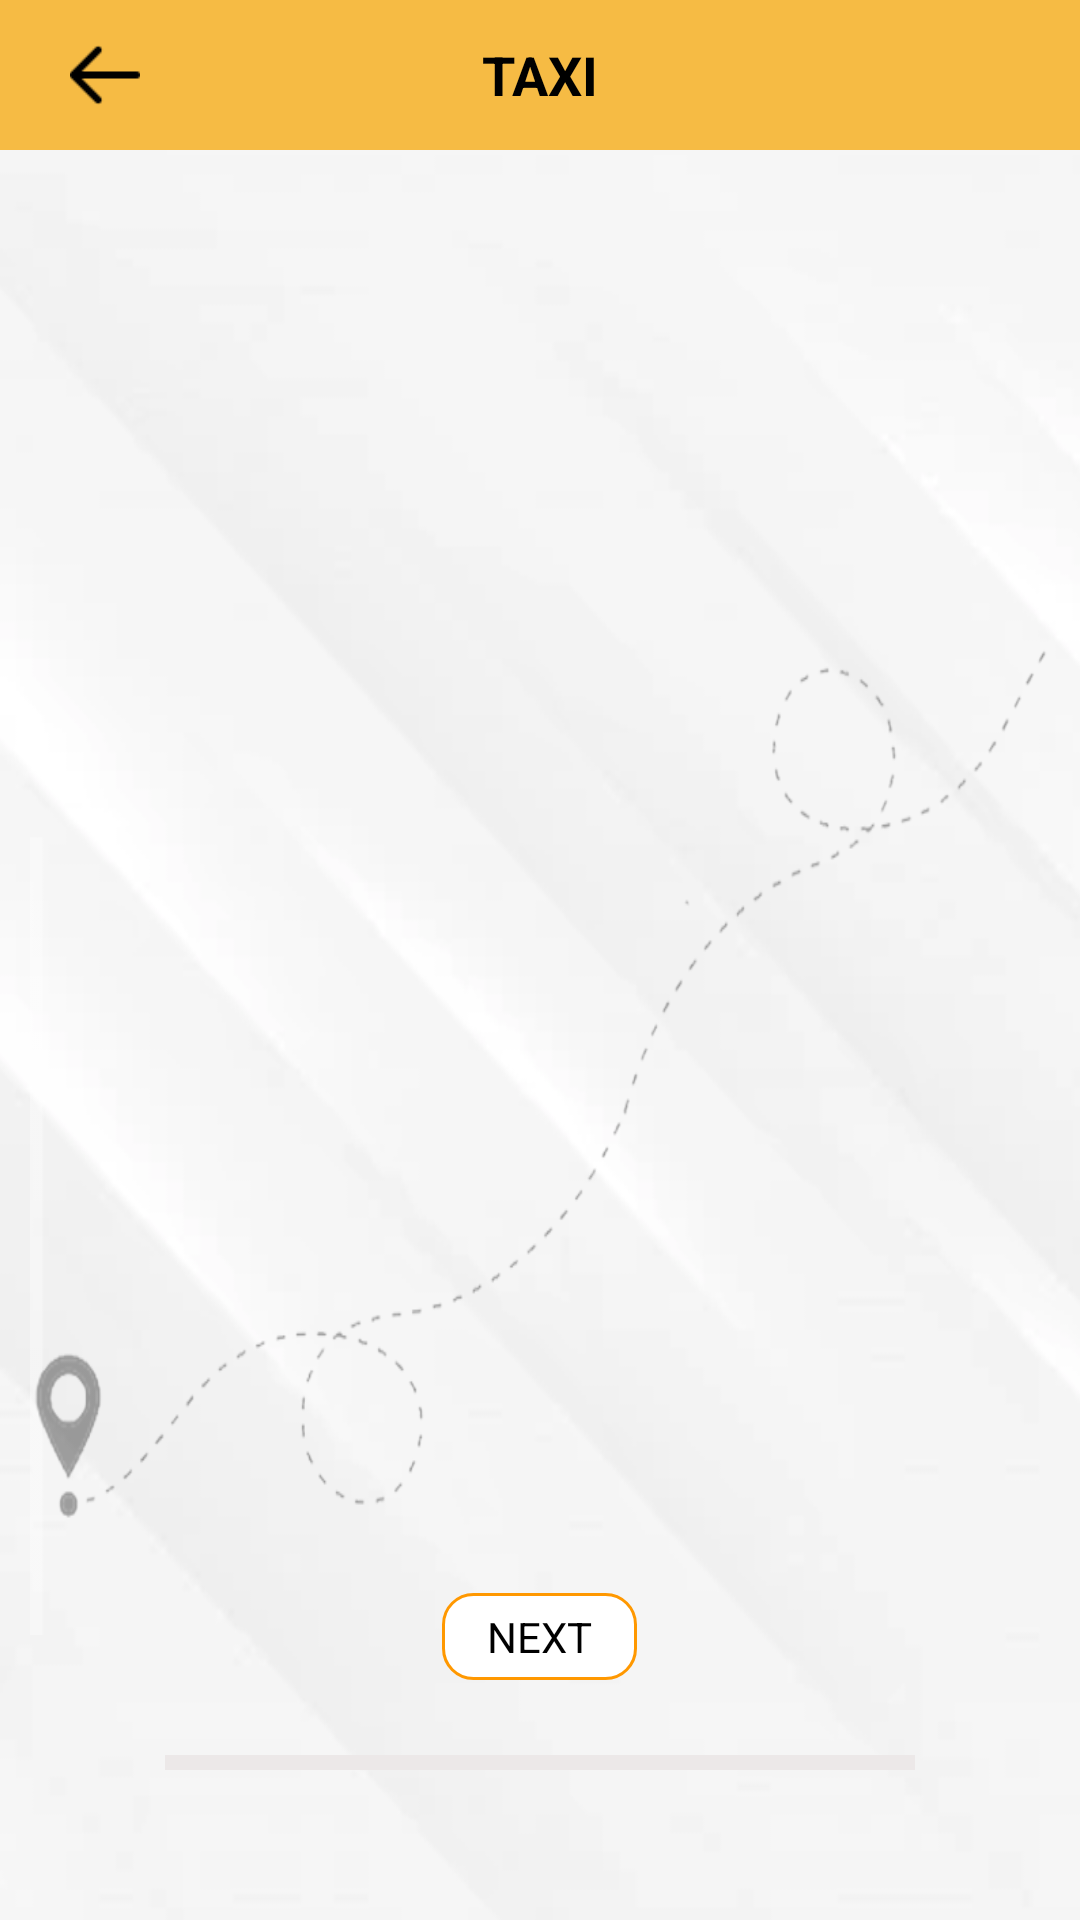

Named icons in this screenshot (1080x1920) and their bounding boxes, (x1, y1, x2, y2):
back: (70, 46, 140, 104)
